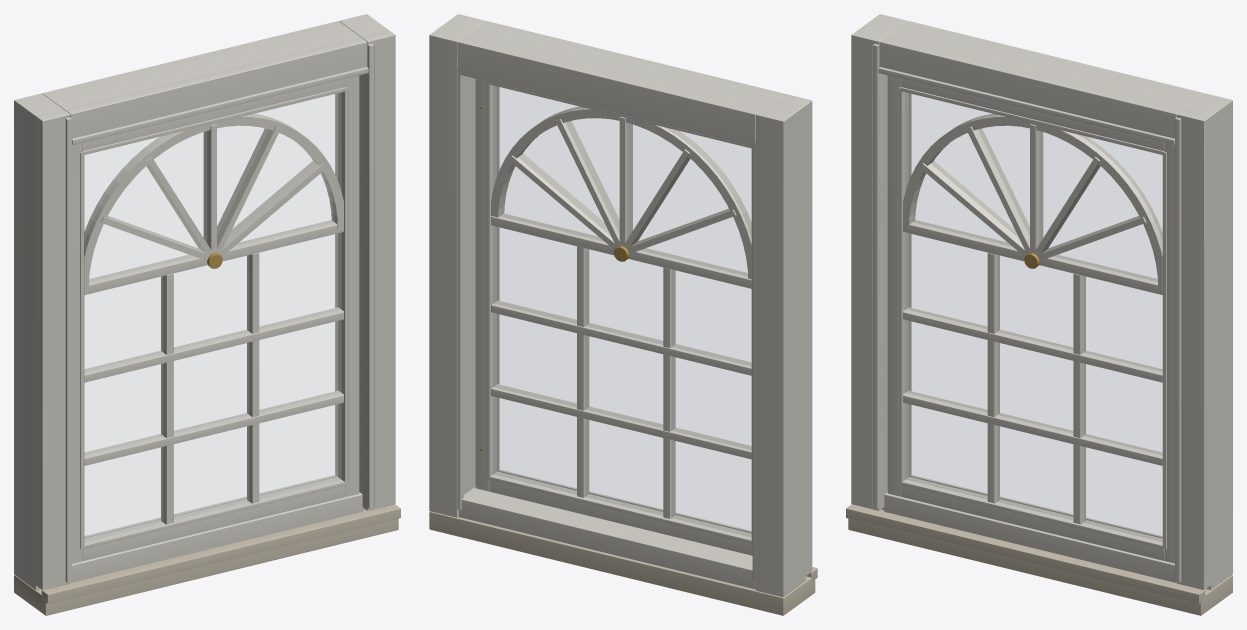
Rendered from rpg-mansion-arched-fixed-window-01.glb.
3 renders of one model, left to right at view 1: azimuth 30°, elevation 25°; view 2: azimuth 150°, elevation 25°; view 3: azimuth 330°, elevation 25°, orthographic.
Visible parts, largest first — view 1: rpg-mansion-arched-fixed-window-01; view 2: rpg-mansion-arched-fixed-window-01; view 3: rpg-mansion-arched-fixed-window-01.
Boxes of the visible parts, left/top/right/bottom form: rpg-mansion-arched-fixed-window-01: left=14, top=14, right=400, bottom=615; rpg-mansion-arched-fixed-window-01: left=429, top=14, right=817, bottom=615; rpg-mansion-arched-fixed-window-01: left=846, top=14, right=1232, bottom=615.
Size of the model in its own units: 0.9 by 1.2 by 0.15.
